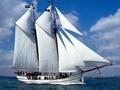fanchuan: (10, 2, 115, 87)
